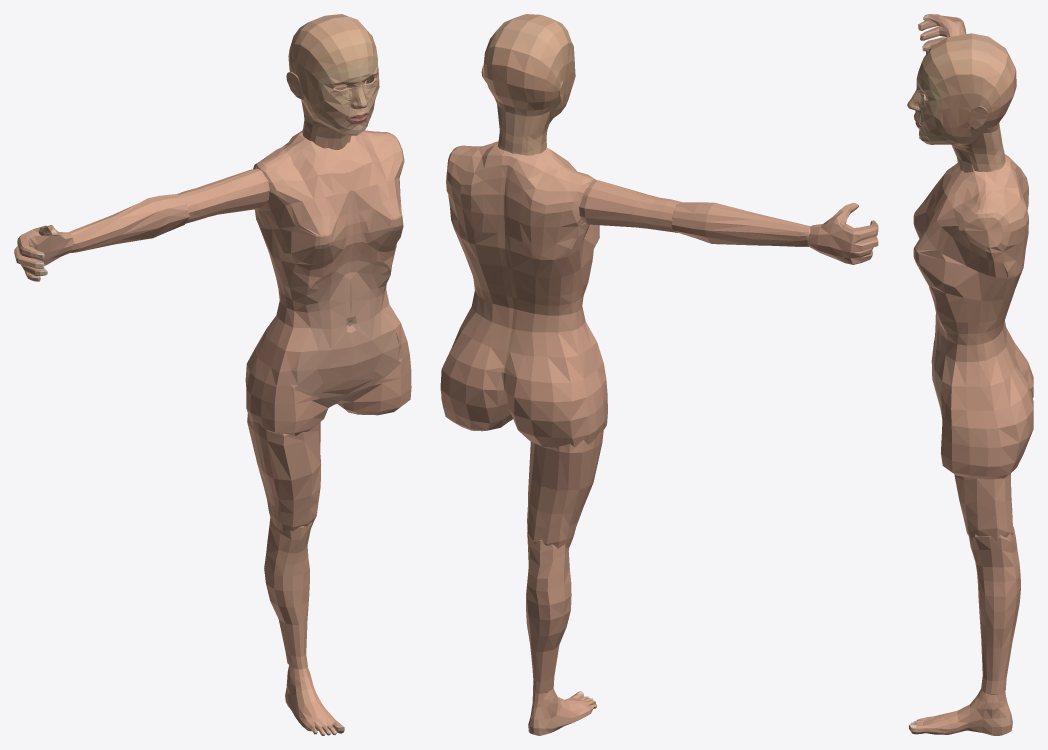
File: baseSkinTonePaleFemale.glb
3 renders of one model, left to right at view 1: azimuth 30°, elevation 25°; view 2: azimuth 150°, elevation 25°; view 3: azimuth 270°, elevation 25°, orthographic. The views are drawn at different scales.
Visible parts, largest first — view 1: nakedTorsoSkinTonePaleFemale, nakedHeadSkinTonePaleFemale, nakedUpperLegSkinTonePaleFemale, nakedLowerLegSkinTonePaleFemale, nakedLowerArmSkinTonePaleFemale, nakedUpperArmSkinTonePaleFemale, nakedFootSkinTonePaleFemale, nakedHandSkinTonePaleFemale; view 2: nakedTorsoSkinTonePaleFemale, nakedHeadSkinTonePaleFemale, nakedUpperLegSkinTonePaleFemale, nakedLowerLegSkinTonePaleFemale, nakedLowerArmSkinTonePaleFemale, nakedUpperArmSkinTonePaleFemale, nakedHandSkinTonePaleFemale, nakedFootSkinTonePaleFemale; view 3: nakedTorsoSkinTonePaleFemale, nakedHeadSkinTonePaleFemale, nakedLowerLegSkinTonePaleFemale, nakedUpperLegSkinTonePaleFemale, nakedFootSkinTonePaleFemale, nakedHandSkinTonePaleFemale.
Boxes of the visible parts, left/top/right/bottom form: nakedTorsoSkinTonePaleFemale: left=245, top=130, right=411, bottom=435; nakedHeadSkinTonePaleFemale: left=286, top=14, right=379, bottom=149; nakedUpperLegSkinTonePaleFemale: left=247, top=414, right=320, bottom=531; nakedLowerLegSkinTonePaleFemale: left=264, top=518, right=313, bottom=669; nakedLowerArmSkinTonePaleFemale: left=68, top=194, right=189, bottom=252; nakedUpperArmSkinTonePaleFemale: left=177, top=169, right=269, bottom=223; nakedFootSkinTonePaleFemale: left=285, top=665, right=344, bottom=735; nakedHandSkinTonePaleFemale: left=14, top=225, right=72, bottom=281; nakedTorsoSkinTonePaleFemale: left=440, top=141, right=607, bottom=447; nakedHeadSkinTonePaleFemale: left=481, top=14, right=575, bottom=155; nakedUpperLegSkinTonePaleFemale: left=527, top=431, right=603, bottom=548; nakedLowerLegSkinTonePaleFemale: left=526, top=532, right=571, bottom=693; nakedLowerArmSkinTonePaleFemale: left=671, top=202, right=810, bottom=246; nakedUpperArmSkinTonePaleFemale: left=579, top=180, right=681, bottom=232; nakedHandSkinTonePaleFemale: left=807, top=203, right=878, bottom=264; nakedFootSkinTonePaleFemale: left=528, top=689, right=596, bottom=735; nakedTorsoSkinTonePaleFemale: left=913, top=154, right=1033, bottom=479; nakedHeadSkinTonePaleFemale: left=907, top=33, right=1016, bottom=172; nakedLowerLegSkinTonePaleFemale: left=969, top=526, right=1020, bottom=694; nakedUpperLegSkinTonePaleFemale: left=954, top=473, right=1013, bottom=540; nakedFootSkinTonePaleFemale: left=908, top=688, right=1012, bottom=735; nakedHandSkinTonePaleFemale: left=918, top=14, right=966, bottom=53.
Bounding box in the file's own units: 1.15 × 1.87 × 0.3027.
